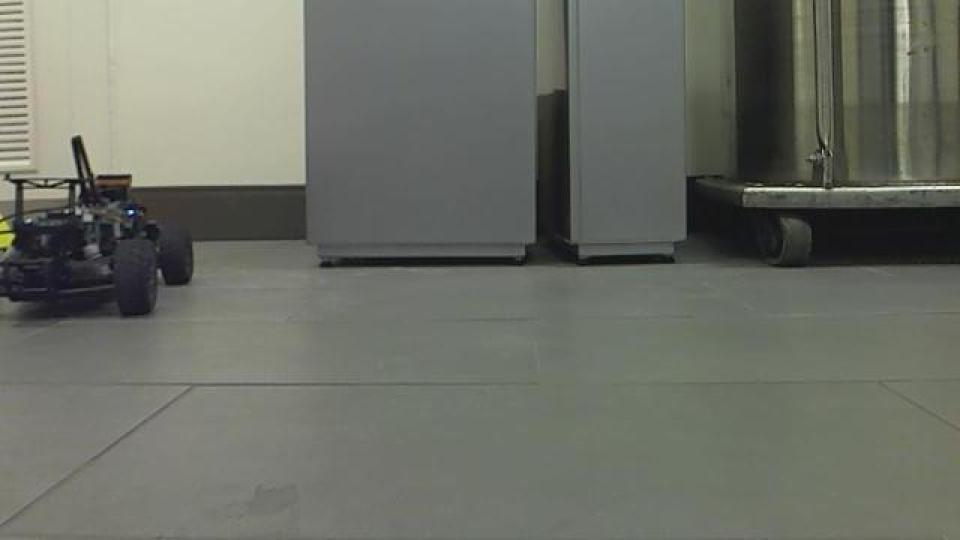car: (1, 132, 196, 320)
